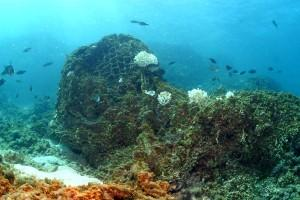bleached_corals: (133, 50, 159, 73), (214, 84, 235, 103), (189, 89, 208, 104), (156, 90, 172, 107)
